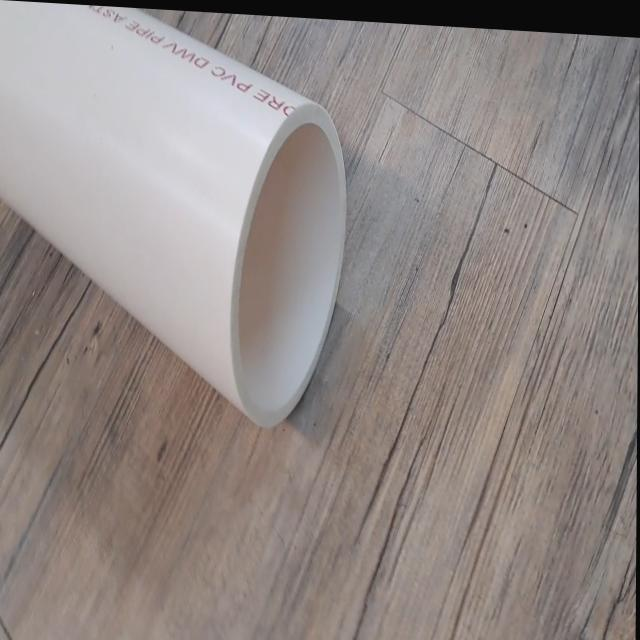CORAL: (0, 1, 352, 443)
